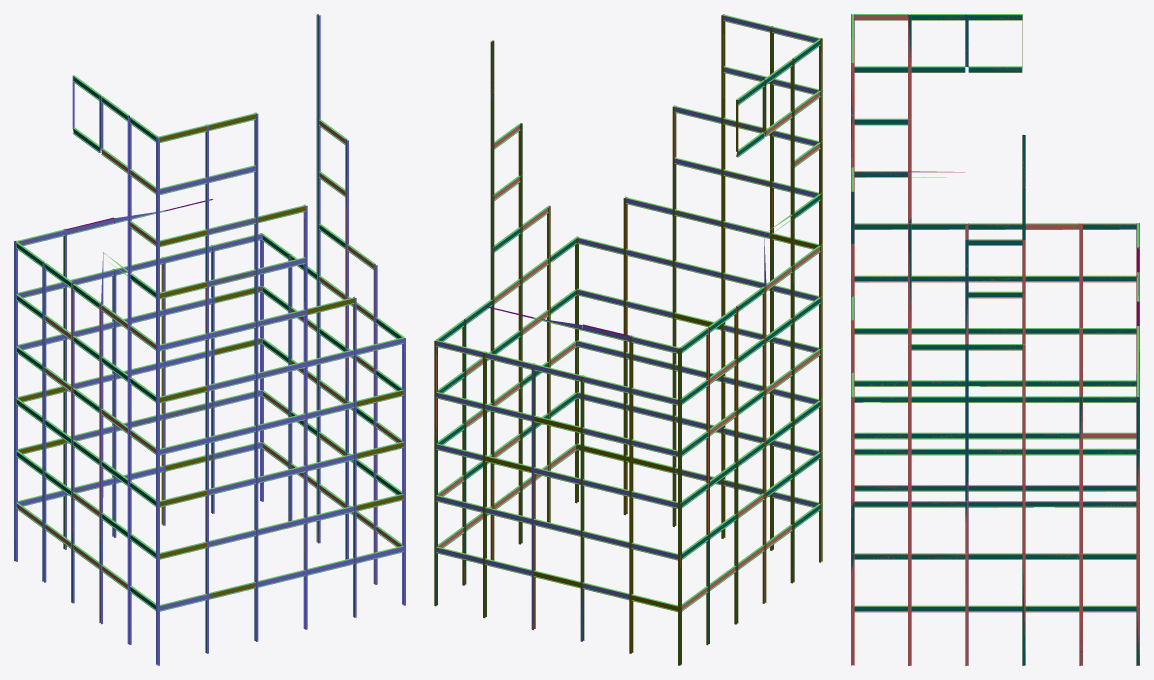
Rendered from zeometry-fragments-ruins-scaffold-frame_v1.glb.
3 views of the same model, side by side, from view 1: azimuth 30°, elevation 25°; view 2: azimuth 150°, elevation 25°; view 3: azimuth 270°, elevation 25° (orthographic).
Parts seen in each view (by area): view 1: Scaffold Frame; view 2: Scaffold Frame; view 3: Scaffold Frame.
Part boxes in pixels (x1,y1,x2,y2): Scaffold Frame: [14, 14, 405, 665]; Scaffold Frame: [434, 14, 822, 665]; Scaffold Frame: [851, 14, 1139, 665].
Bounding box in the file's own units: 0.2459 × 0.5 × 0.2468.
